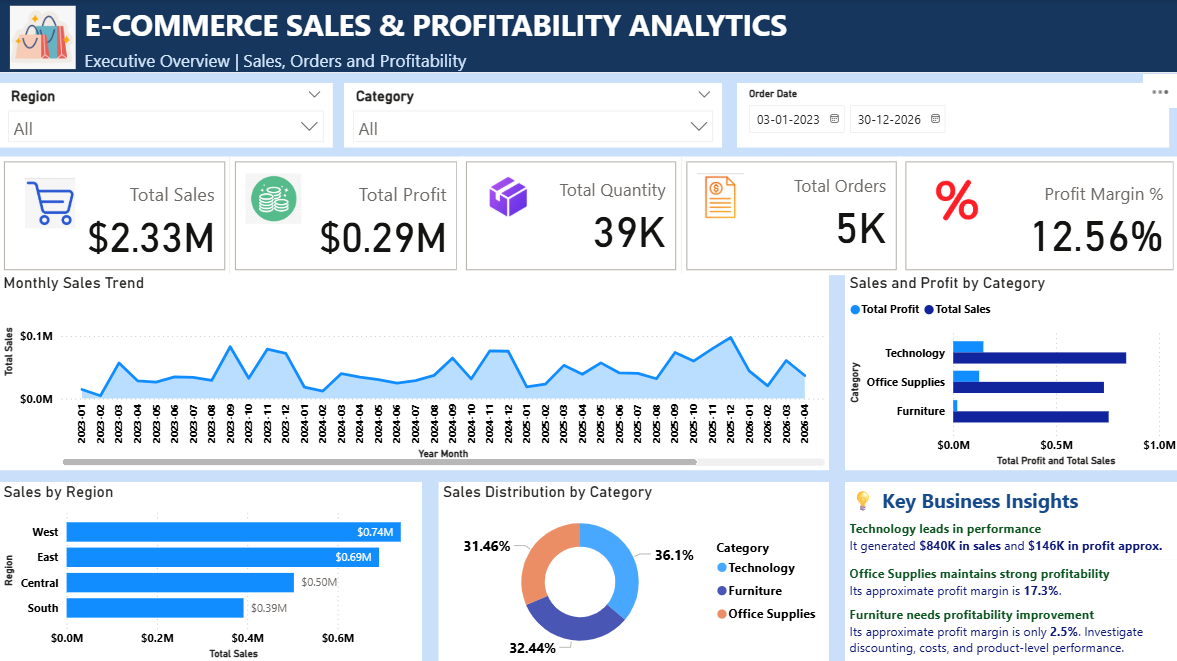

Layout of this report page (visuals, bound fields, positions):
{"tool":"powerbi","page":{"name":"Page 1","canvas":[1280,720],"ordinal":0},"visuals":[{"type":"cardVisual","fields":{"Data":["Superstore.Total Sales","select"]},"box":[0,170,250,128.3],"z":0},{"type":"cardVisual","fields":{"Data":["Superstore.Total Profit"]},"box":[250,170,251.7,128.3],"z":1000},{"type":"cardVisual","fields":{"Data":["Superstore.Total Orders"]},"box":[740,170,238.3,128.3],"z":2000},{"type":"cardVisual","fields":{"Data":["Superstore.Total Quantity"]},"box":[501.7,170,238.3,128.3],"z":3000},{"type":"cardVisual","fields":{"Data":["Superstore.Profit Margin %"]},"box":[978.3,170,301.7,128.3],"z":4000},{"type":"lineChart","title":"Monthly Sales Trend","fields":{"Category":["Superstore.YearMonth"],"Y":["Superstore.Total Sales"]},"box":[0,298.3,900,213.3],"z":5000},{"type":"clusteredBarChart","title":"Sales and Profit by Category","fields":{"Category":["Superstore.Category"],"Y":["Superstore.Total Profit","Superstore.Total Sales"]},"box":[916.7,298.3,363.3,213.3],"z":6000},{"type":"clusteredBarChart","title":"Sales by Region","fields":{"Category":["Superstore.Region"],"Y":["Superstore.Total Sales"]},"box":[0,523.3,458.3,196.7],"z":7000},{"type":"slicer","fields":{"Values":["Superstore.Region"]},"box":[0,91.7,361.7,70],"z":8000},{"type":"slicer","fields":{"Values":["Superstore.Category"]},"box":[373.3,91.7,410,70],"z":9000},{"type":"slicer","fields":{"Values":["Superstore.Order Date"]},"box":[800,91.7,468.3,70],"z":10000},{"type":"donutChart","title":"Sales Distribution by Category","fields":{"Category":["Superstore.Category"],"Y":["Superstore.Total Sales"]},"box":[476.7,523.3,423.3,196.7],"z":12000},{"type":"image","box":[23.3,188.3,65,65],"z":13000},{"type":"image","box":[261.7,183.3,71.7,65],"z":14000},{"type":"image","box":[516.7,183.3,70,61.7],"z":15000},{"type":"image","box":[751.7,183.3,61.7,61.7],"z":16000},{"type":"image","box":[1005,183.3,68.3,70],"z":17000},{"type":"shape","box":[0,0,1280,80],"z":18000},{"type":"textbox","box":[88.3,0,805,65],"z":19000},{"type":"textbox","box":[88.3,48.3,486.7,43.3],"z":20000},{"type":"textbox","box":[916.7,523.3,363.3,48.3],"z":20001},{"type":"textbox","box":[916.7,560,363.3,48.3],"z":20003},{"type":"textbox","box":[916.7,608.3,363.3,56.7],"z":20004},{"type":"textbox","box":[916.7,651.7,363.3,68.3],"z":20005},{"type":"image","box":[6.7,0,81.7,83.3],"z":20006}]}

Visuals, with their boxes in screenshot pixels (x1, y1, x2, y2), scaled from the page's 1280x720 canvas onto the 1177x661 screenshot:
cardVisual - Superstore.Total Sales x select: x1=0 y1=156 x2=230 y2=274
cardVisual - Superstore.Total Profit: x1=230 y1=156 x2=461 y2=274
cardVisual - Superstore.Total Orders: x1=680 y1=156 x2=900 y2=274
cardVisual - Superstore.Total Quantity: x1=461 y1=156 x2=680 y2=274
cardVisual - Superstore.Profit Margin %: x1=900 y1=156 x2=1176 y2=274
"Monthly Sales Trend" lineChart: x1=0 y1=274 x2=828 y2=470
"Sales and Profit by Category" clusteredBarChart: x1=843 y1=274 x2=1176 y2=470
"Sales by Region" clusteredBarChart: x1=0 y1=480 x2=421 y2=660
slicer - Superstore.Region: x1=0 y1=84 x2=333 y2=148
slicer - Superstore.Category: x1=343 y1=84 x2=720 y2=148
slicer - Superstore.Order Date: x1=736 y1=84 x2=1166 y2=148
"Sales Distribution by Category" donutChart: x1=438 y1=480 x2=828 y2=660
image: x1=21 y1=173 x2=81 y2=233
image: x1=241 y1=168 x2=307 y2=228
image: x1=475 y1=168 x2=539 y2=225
image: x1=691 y1=168 x2=748 y2=225
image: x1=924 y1=168 x2=987 y2=233
shape: x1=0 y1=0 x2=1176 y2=73
textbox: x1=81 y1=0 x2=821 y2=60
textbox: x1=81 y1=44 x2=529 y2=84
textbox: x1=843 y1=480 x2=1176 y2=525
textbox: x1=843 y1=514 x2=1176 y2=558
textbox: x1=843 y1=558 x2=1176 y2=611
textbox: x1=843 y1=598 x2=1176 y2=660
image: x1=6 y1=0 x2=81 y2=76
